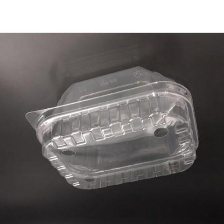plastic_box: (19, 58, 205, 197)
